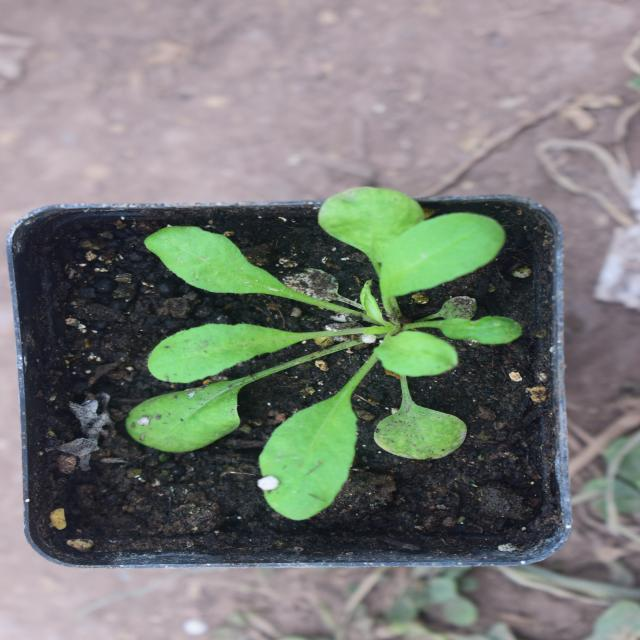Shepherd_Purse: (126, 127, 473, 492)
